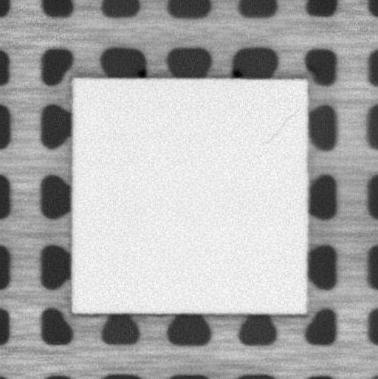DIE_CRACK: (263, 105, 305, 145)
